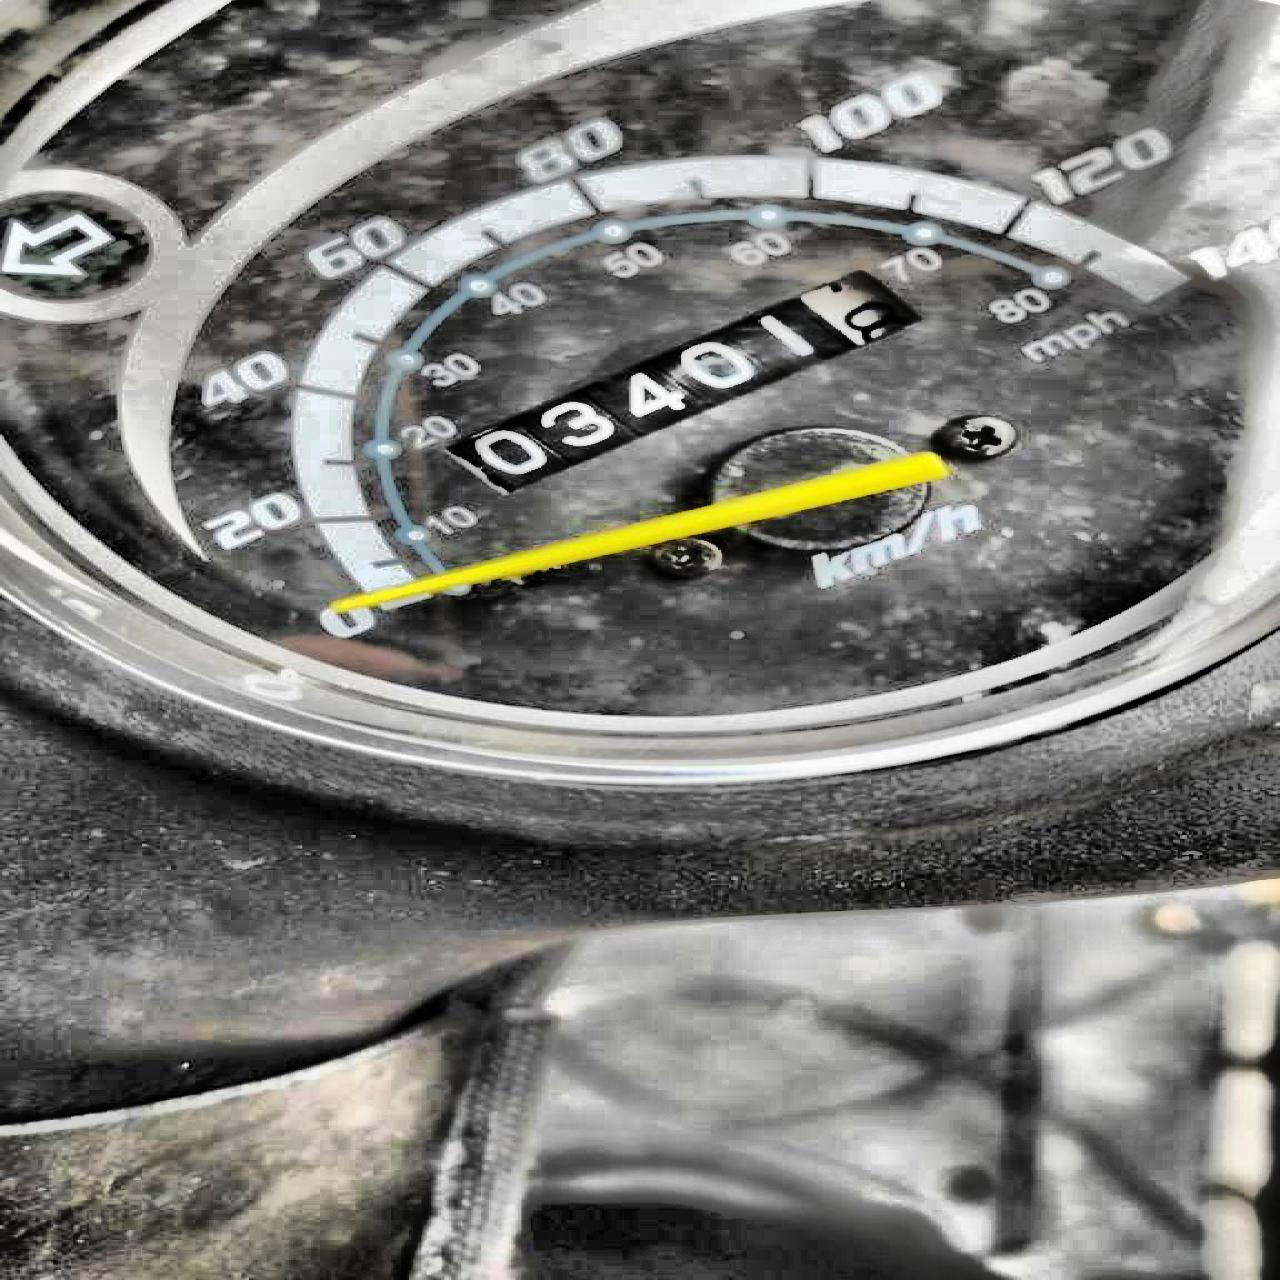0: (671, 344, 753, 390), (467, 432, 542, 480), (506, 279, 544, 306), (444, 352, 482, 377)
1: (749, 310, 824, 366)
3: (531, 400, 609, 449)
4: (613, 369, 691, 419), (484, 290, 520, 318)
7: (871, 258, 911, 284)
8: (836, 302, 916, 350)
odometer: (442, 265, 924, 497)
